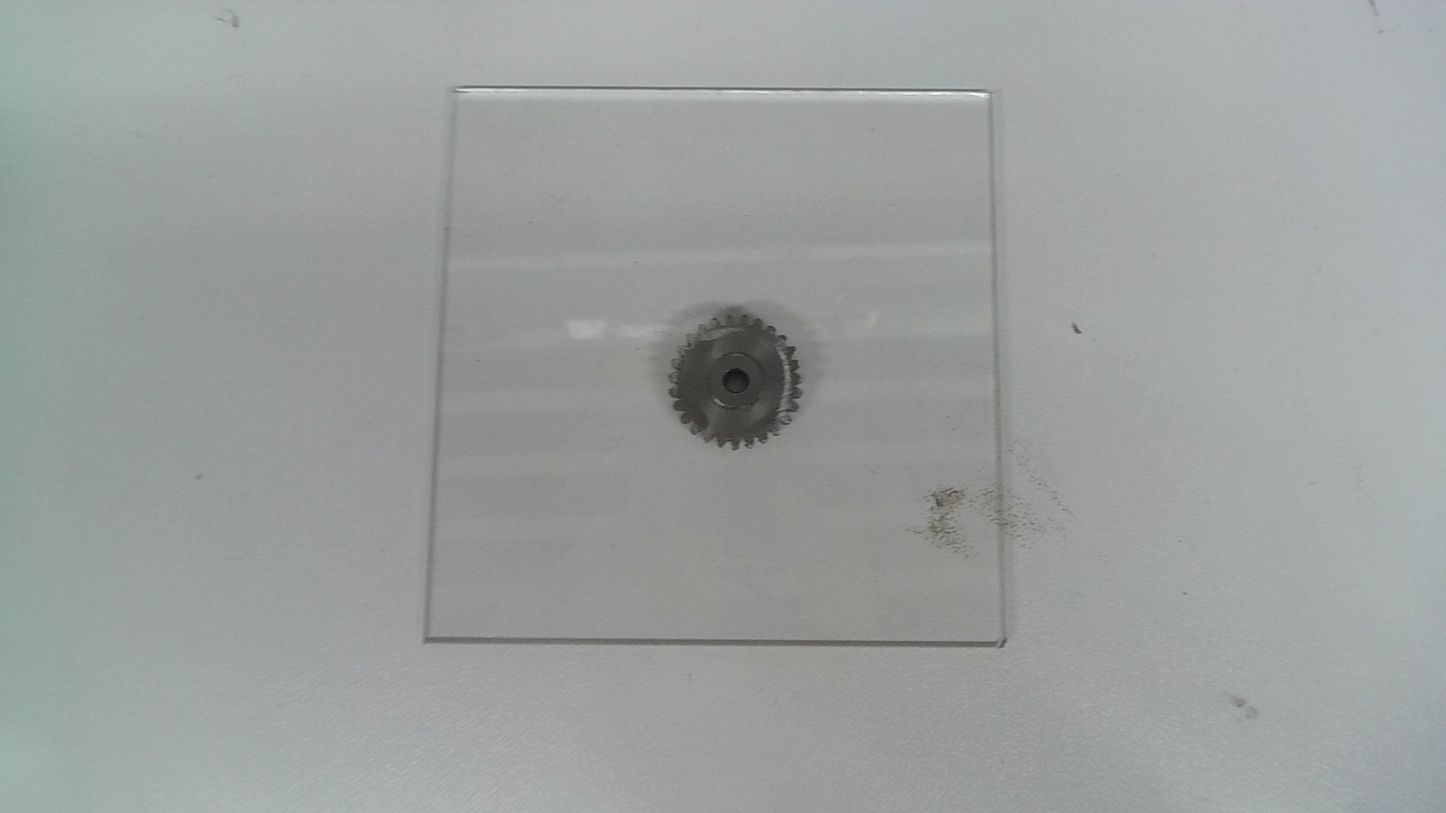gear: (668, 312, 804, 452)
